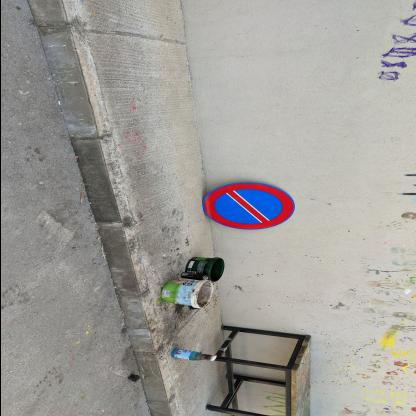No Waiting: (203, 183, 295, 231)
